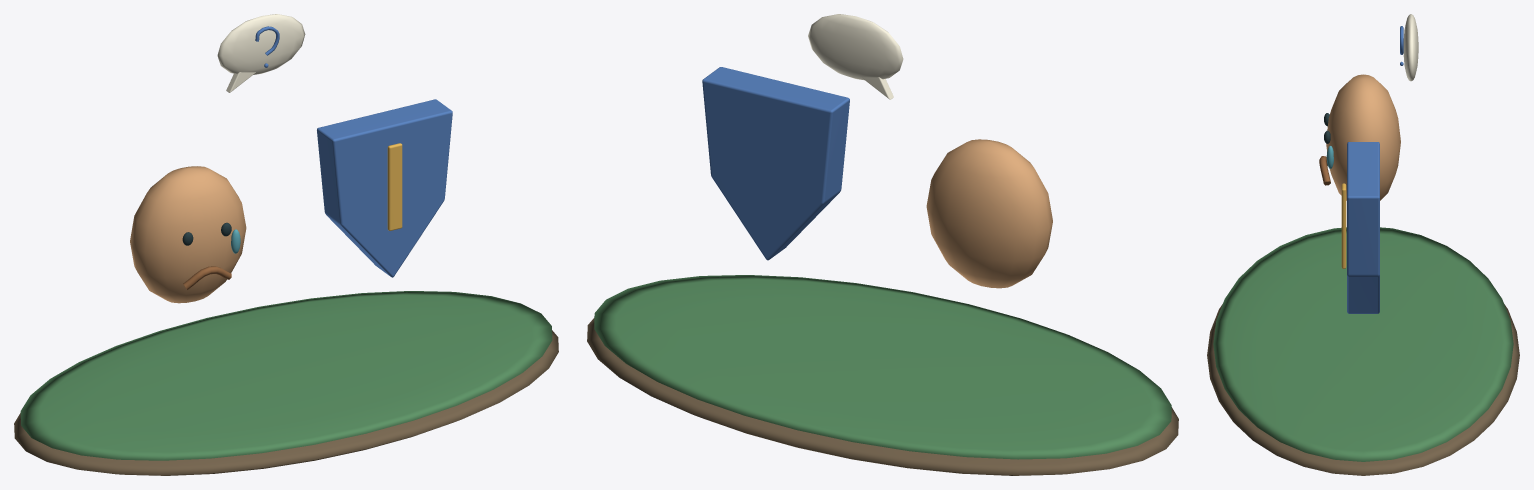
Rendered from complete-third-fearful-forecast.glb.
3 renders of one model, left to right at view 1: azimuth 30°, elevation 25°; view 2: azimuth 150°, elevation 25°; view 3: azimuth 270°, elevation 25°, orthographic. The views are drawn at different scales.
Parts seen in each view (by area): view 1: complete-third-fearful-forecast_surface_01, complete-third-fearful-forecast_surface_06, complete-third-fearful-forecast_surface_02, complete-third-fearful-forecast_surface_00, complete-third-fearful-forecast_surface_08, complete-third-fearful-forecast_surface_07; view 2: complete-third-fearful-forecast_surface_01, complete-third-fearful-forecast_surface_06, complete-third-fearful-forecast_surface_02, complete-third-fearful-forecast_surface_00, complete-third-fearful-forecast_surface_08; view 3: complete-third-fearful-forecast_surface_01, complete-third-fearful-forecast_surface_00, complete-third-fearful-forecast_surface_06, complete-third-fearful-forecast_surface_02, complete-third-fearful-forecast_surface_08, complete-third-fearful-forecast_surface_07.
Part boxes in pixels (left/top/right/bottom): complete-third-fearful-forecast_surface_01: left=20, top=291, right=552, bottom=460; complete-third-fearful-forecast_surface_06: left=255, top=26, right=452, bottom=277; complete-third-fearful-forecast_surface_02: left=130, top=166, right=246, bottom=303; complete-third-fearful-forecast_surface_00: left=14, top=330, right=558, bottom=475; complete-third-fearful-forecast_surface_08: left=217, top=14, right=305, bottom=92; complete-third-fearful-forecast_surface_07: left=387, top=143, right=402, bottom=230; complete-third-fearful-forecast_surface_01: left=594, top=275, right=1171, bottom=459; complete-third-fearful-forecast_surface_06: left=702, top=67, right=849, bottom=260; complete-third-fearful-forecast_surface_02: left=926, top=139, right=1052, bottom=288; complete-third-fearful-forecast_surface_00: left=587, top=318, right=1178, bottom=475; complete-third-fearful-forecast_surface_08: left=808, top=14, right=903, bottom=99; complete-third-fearful-forecast_surface_01: left=1213, top=227, right=1513, bottom=461; complete-third-fearful-forecast_surface_00: left=1207, top=304, right=1519, bottom=475; complete-third-fearful-forecast_surface_06: left=1347, top=26, right=1403, bottom=313; complete-third-fearful-forecast_surface_02: left=1326, top=74, right=1400, bottom=200; complete-third-fearful-forecast_surface_08: left=1403, top=14, right=1418, bottom=81; complete-third-fearful-forecast_surface_07: left=1341, top=183, right=1346, bottom=268.
Bounding box in the file's own units: 4.56 × 3.08 × 2.5.
